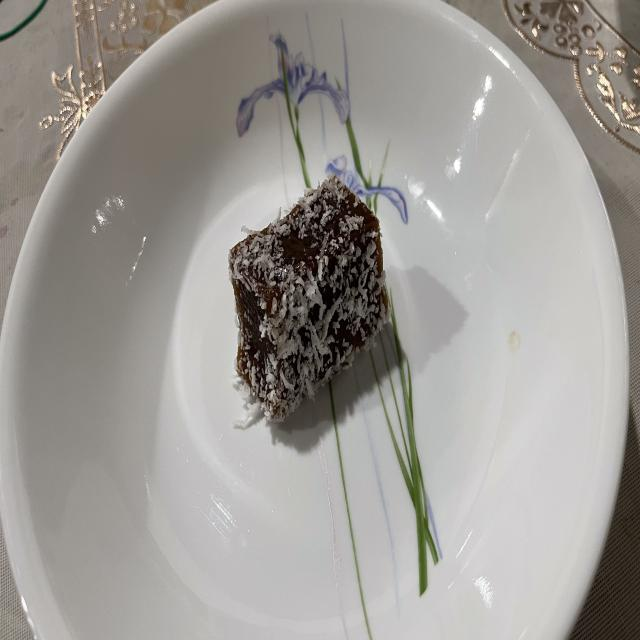kaswi: (229, 176, 389, 422)
